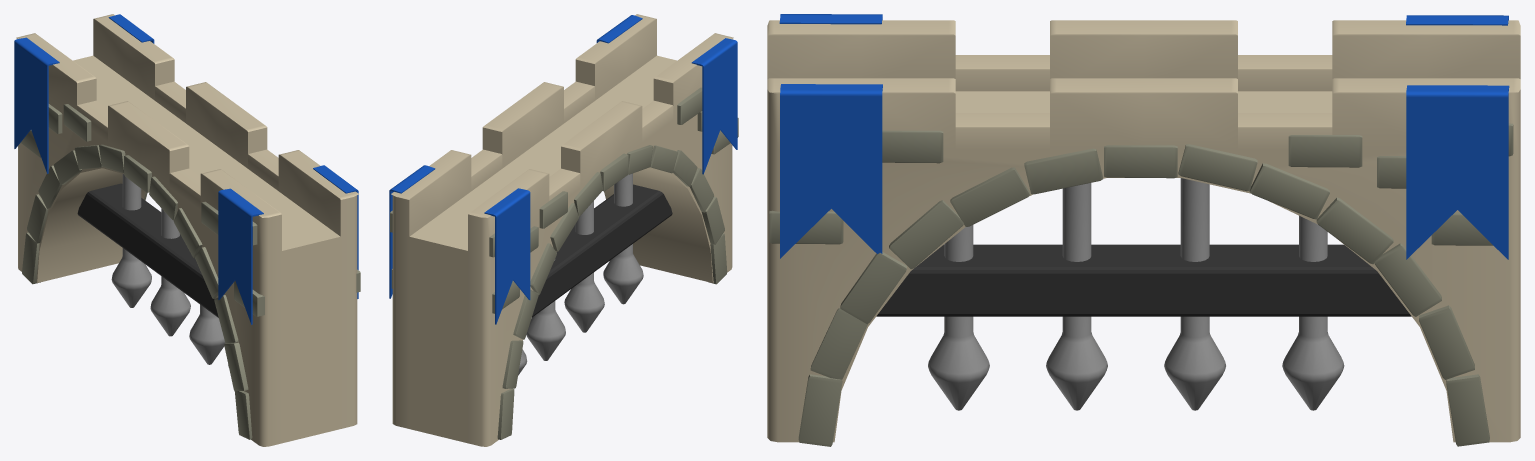
Rendered from Gate_Level2_BlueTeam.fbx.
3 renders of one model, left to right at view 1: azimuth 30°, elevation 25°; view 2: azimuth 150°, elevation 25°; view 3: azimuth 270°, elevation 25°, orthographic. The views are drawn at different scales.
Parts seen in each view (by area): view 1: Gate_Level2_BlueTeam; view 2: Gate_Level2_BlueTeam; view 3: Gate_Level2_BlueTeam.
Boxes of the visible parts, bbox=[...] form: Gate_Level2_BlueTeam: bbox=[14, 14, 360, 446]; Gate_Level2_BlueTeam: bbox=[389, 14, 738, 446]; Gate_Level2_BlueTeam: bbox=[767, 14, 1520, 446].
Size of the model in its own units: 955 by 1951 by 3753.
